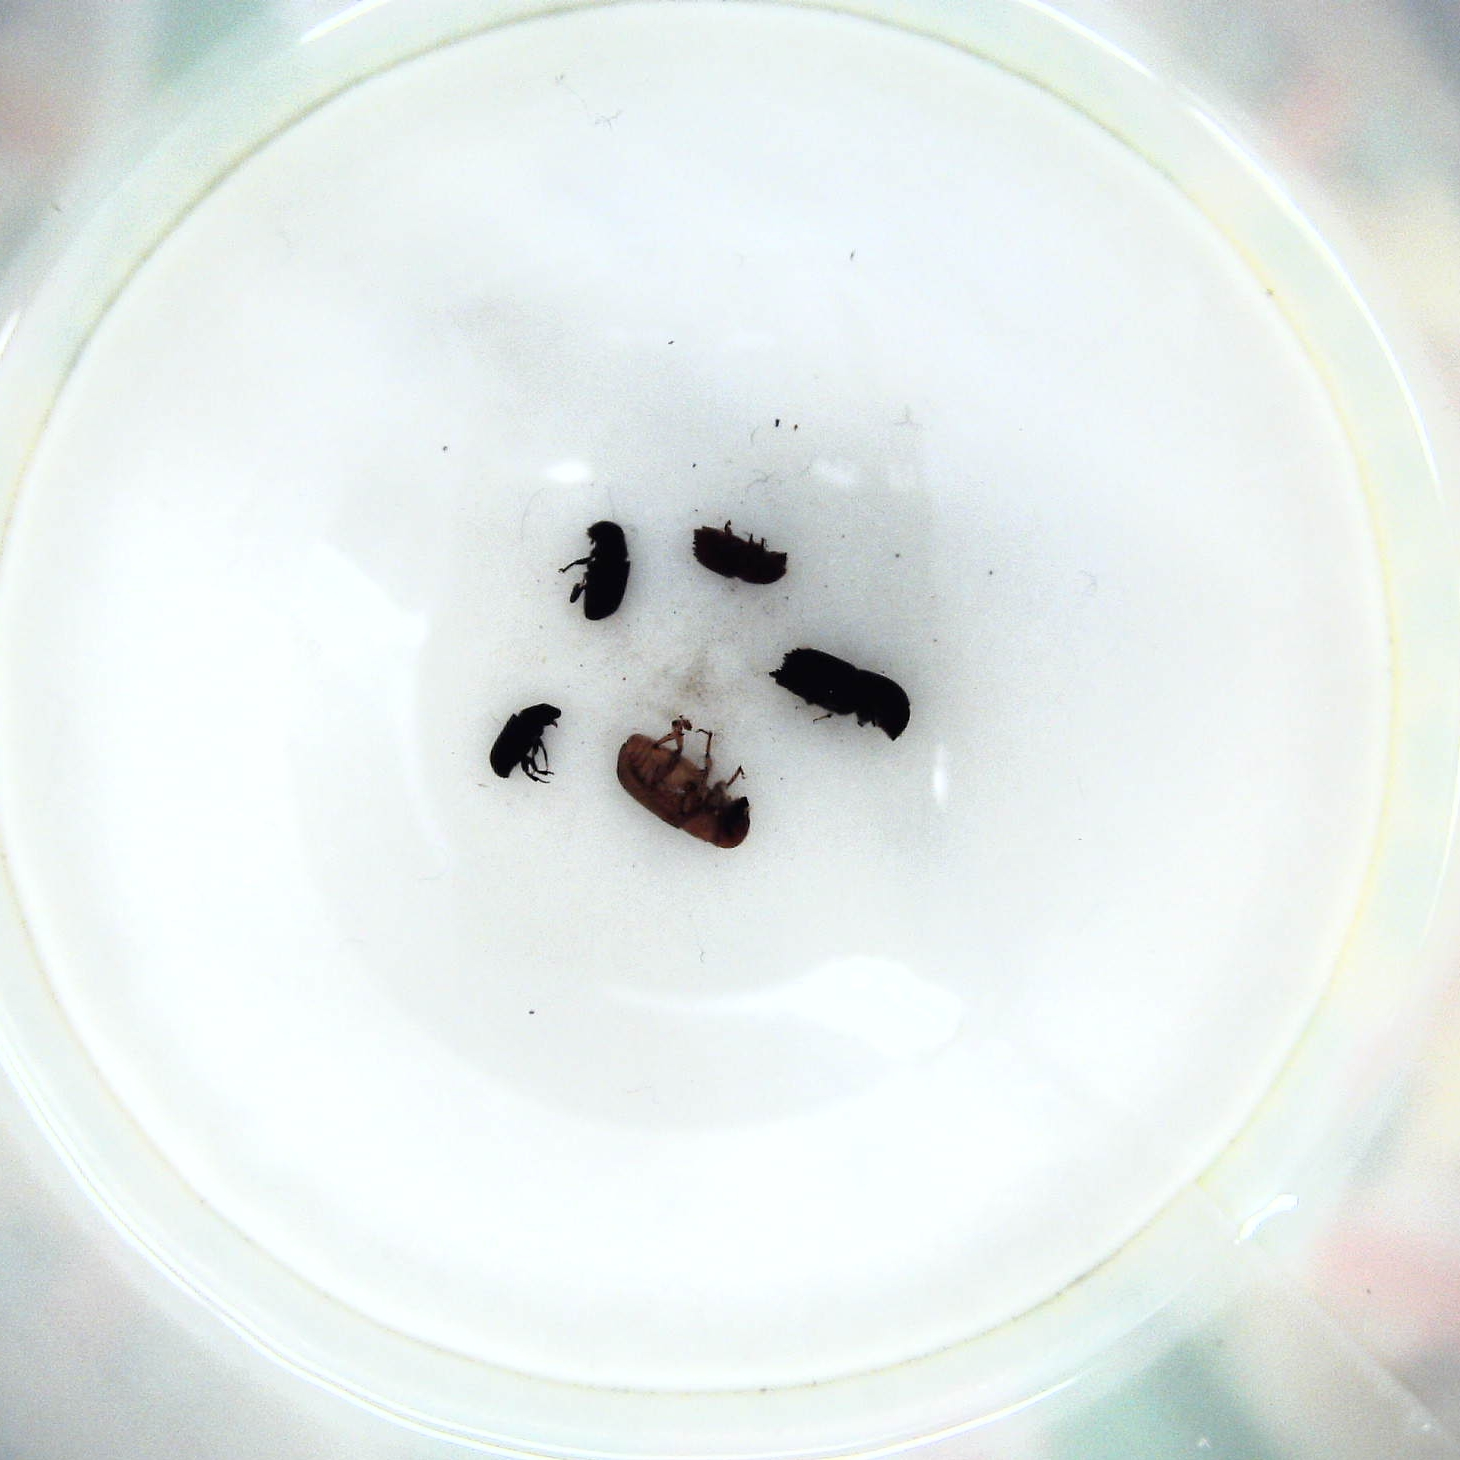Boerner: (766, 639, 915, 746)
Leconte: (612, 707, 758, 856)
armandi: (556, 519, 639, 622)
coleoptera: (488, 699, 570, 783)
linnaeus: (689, 519, 796, 590)
